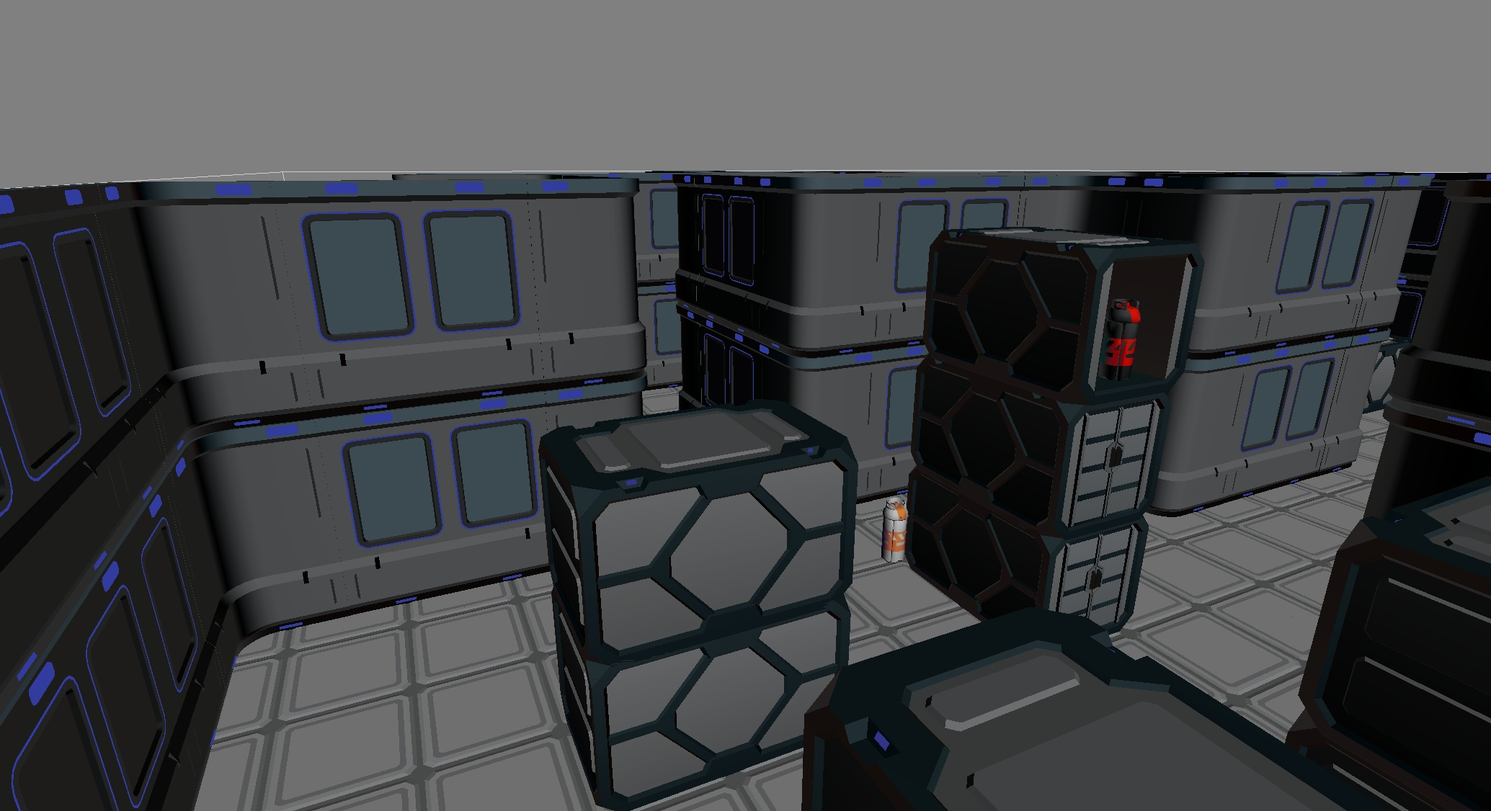red_barrel: (1100, 298, 1140, 380)
yellow_barrel: (881, 496, 908, 562)
